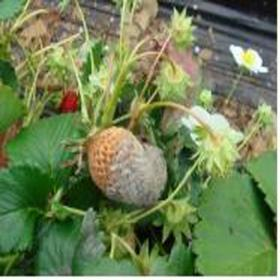Gray Mold: (97, 127, 168, 207)
